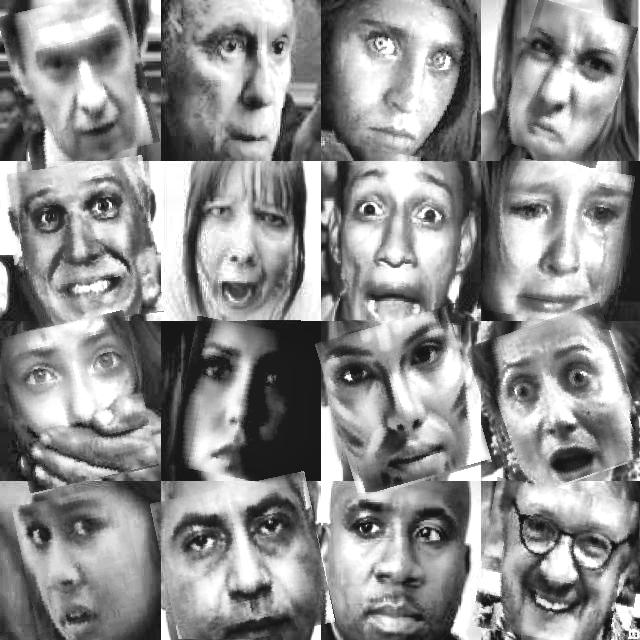angry: (505, 3, 629, 163)
fear: (476, 311, 640, 492), (7, 159, 159, 327), (3, 317, 151, 489), (336, 0, 471, 157), (341, 165, 469, 324), (19, 489, 144, 640), (192, 164, 300, 324), (188, 2, 296, 156)
happy: (477, 483, 640, 640)
neutral: (325, 314, 483, 492), (156, 478, 329, 640), (5, 0, 152, 164), (333, 490, 458, 640)
sad: (483, 160, 629, 326), (175, 320, 302, 482)
